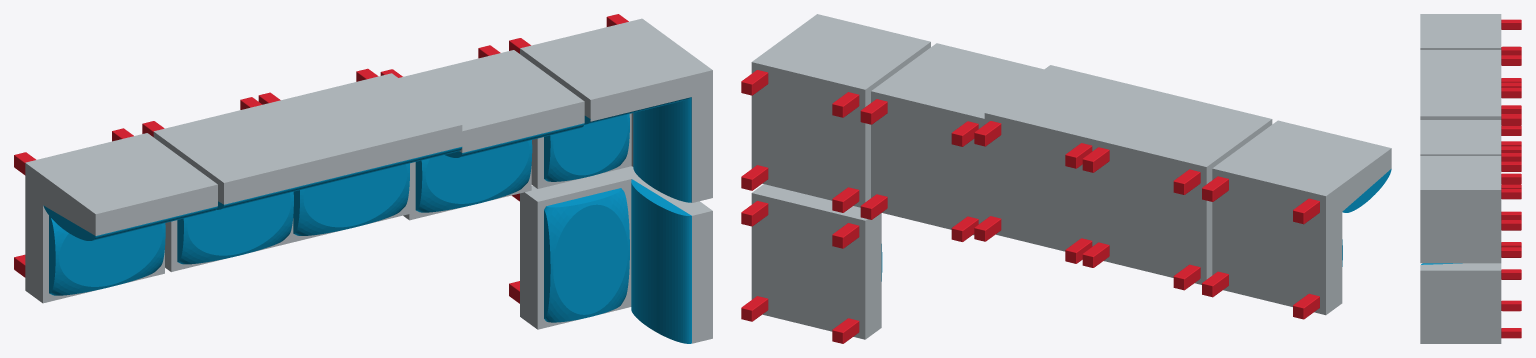
The model's file is tinker.obj.
The picture shows the model from 3 angles, left to right: view 1: azimuth 30°, elevation 25°; view 2: azimuth 150°, elevation 25°; view 3: azimuth 270°, elevation 25°; orthographic projection. The views are drawn at different scales.
Visible parts, largest first — view 1: group_0_12568524, group_0_40919, group_0_15277357; view 2: group_0_12568524, group_0_15277357, group_0_40919; view 3: group_0_12568524, group_0_15277357.
Part boxes in pixels (x1,y1,x2,y2): group_0_12568524: (25,18,712,343); group_0_40919: (43,97,691,343); group_0_15277357: (14,14,628,303); group_0_12568524: (751,14,1391,339); group_0_15277357: (741,70,1319,343); group_0_40919: (881,169,1391,281); group_0_12568524: (1420,14,1501,343); group_0_15277357: (1501,19,1521,338).
Bounding box in the file's own units: 101 × 43 × 25.
